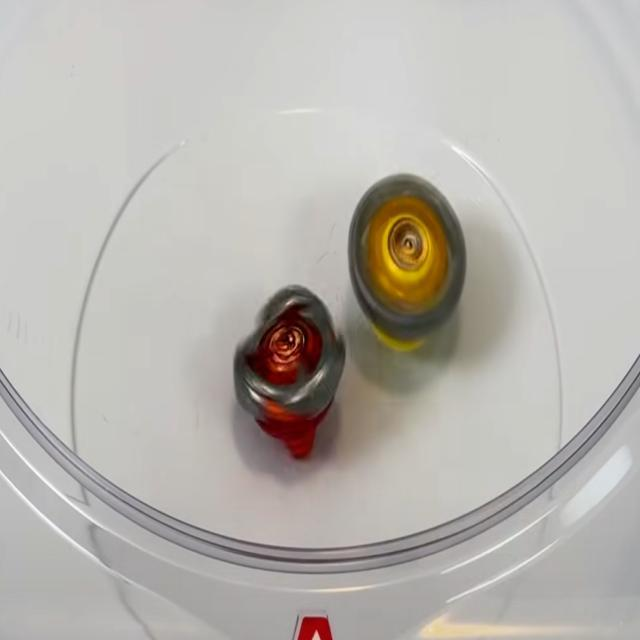Beyblade: (347, 171, 467, 351), (234, 286, 345, 459)
